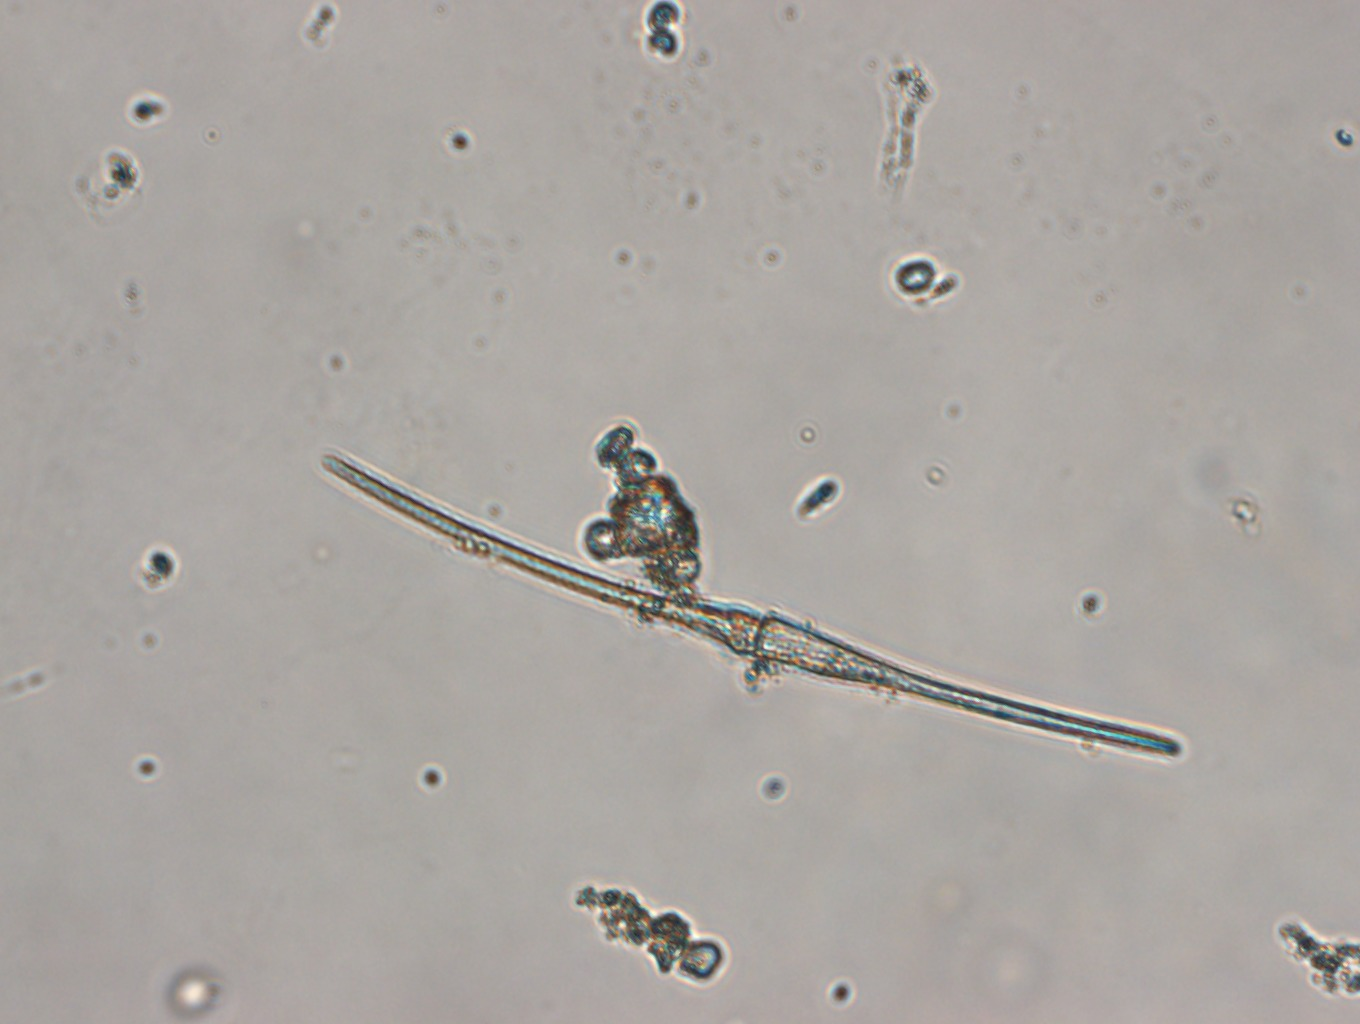ceratium fusus: (315, 445, 1184, 760)
